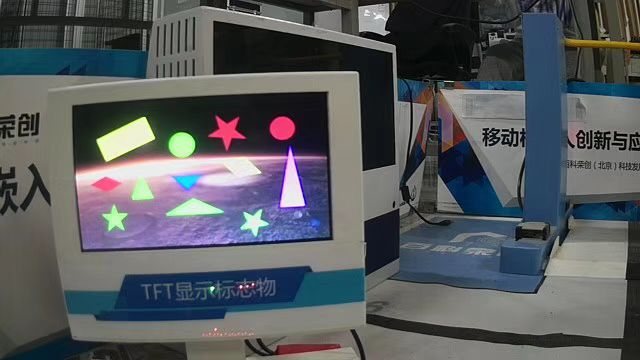graph: (68, 90, 340, 253)
